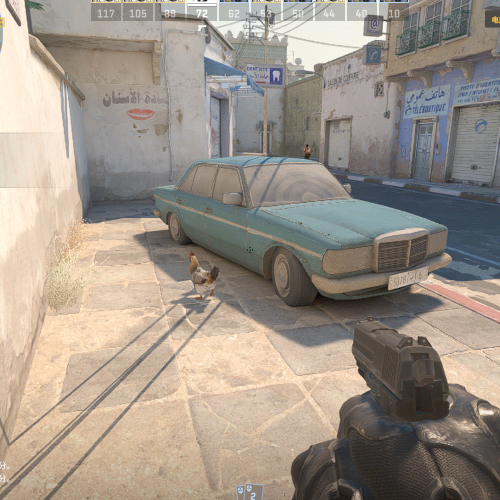chicken: (188, 253, 217, 301)
t_body: (303, 144, 311, 161)
